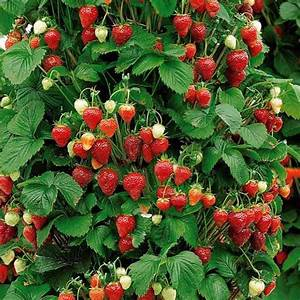Fresa: (120, 168, 150, 204), (88, 135, 117, 168), (94, 165, 121, 199), (168, 9, 196, 41), (47, 119, 76, 149), (120, 132, 145, 164), (224, 47, 251, 76), (114, 211, 141, 239), (74, 2, 99, 32), (152, 157, 177, 187), (70, 162, 96, 190), (109, 18, 134, 46), (171, 161, 195, 189), (196, 54, 218, 84), (225, 207, 248, 235), (239, 22, 261, 50), (187, 18, 211, 43), (82, 105, 105, 131), (97, 117, 122, 140), (192, 240, 215, 265), (43, 24, 62, 52), (117, 102, 140, 125), (102, 280, 127, 300), (171, 188, 188, 213), (212, 206, 229, 231), (200, 189, 217, 213), (243, 178, 261, 200), (194, 85, 212, 107), (139, 123, 156, 146), (155, 194, 171, 213), (270, 212, 282, 234), (271, 115, 284, 135)
